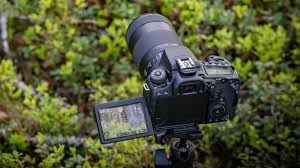camera: (128, 12, 238, 122)
